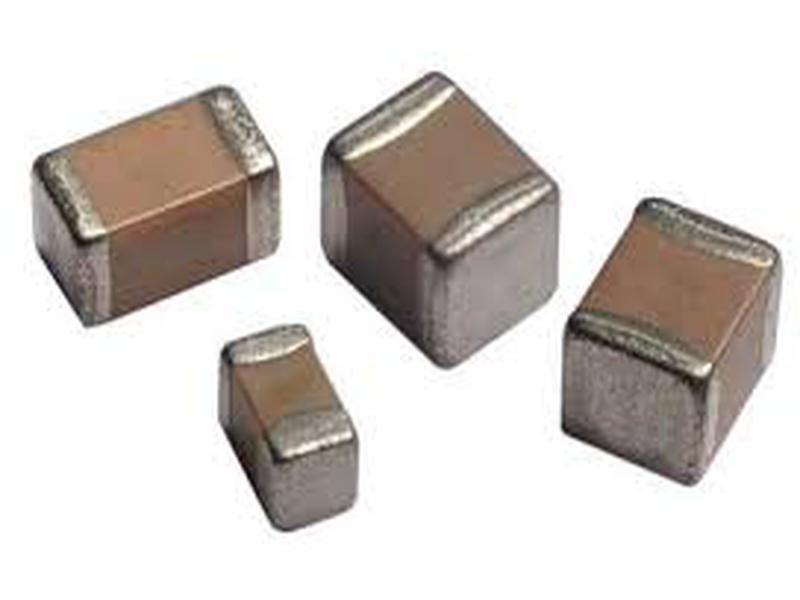SMD capacitor: (308, 58, 575, 364), (24, 84, 288, 321)
